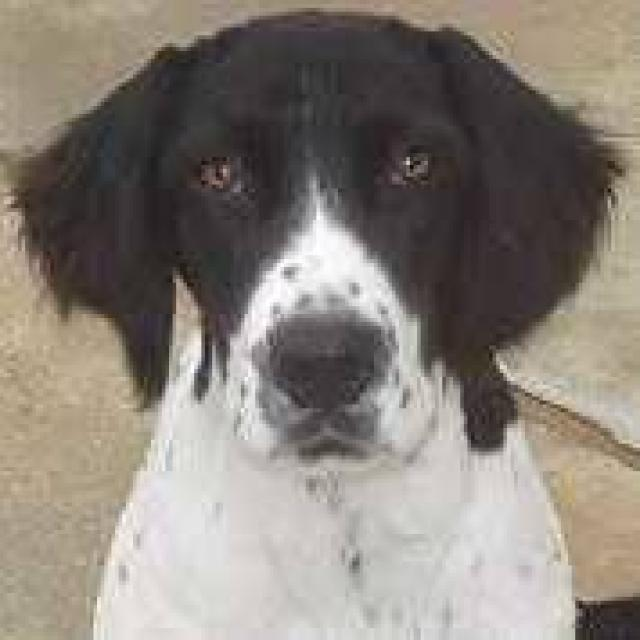dog: (4, 4, 636, 636)
